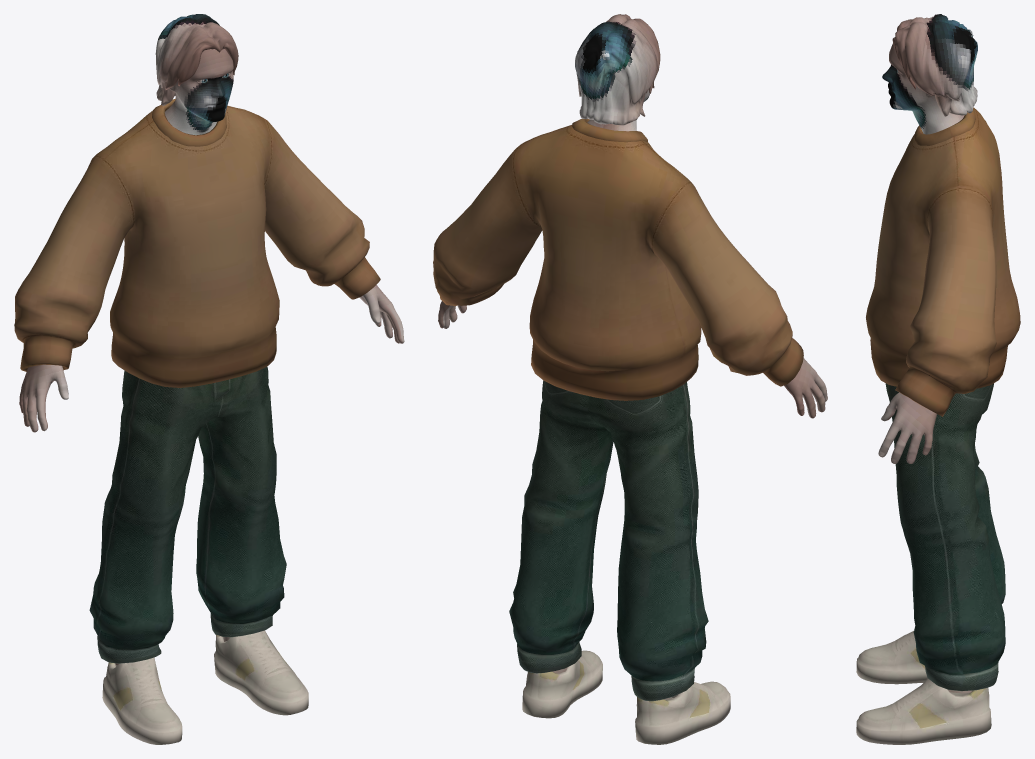
Rendered from avatar_testing2.fbx.
3 views of the same model, side by side, from view 1: azimuth 30°, elevation 25°; view 2: azimuth 150°, elevation 25°; view 3: azimuth 270°, elevation 25° (orthographic).
Visible parts, largest first — view 1: node_9146f3e6_b35e_4496_808e_1da8280aa87d_mesh0, node_9fd52ec1_0df4_432f_8ebf_860e5673bd9f_mesh0, node_6abc57bd_3641_4c2c_b95f_77e1eb2d2853_mesh0, node_86010d5c_9360_49a1_a684_228e277e4bb6_mesh0, node_e018433b_87f0_4735_8140_f171f6a36282_mesh0, node_0b58ad48_553a_4873_b4d3_bc822b55f590_mesh0; view 2: node_9146f3e6_b35e_4496_808e_1da8280aa87d_mesh0, node_9fd52ec1_0df4_432f_8ebf_860e5673bd9f_mesh0, node_6abc57bd_3641_4c2c_b95f_77e1eb2d2853_mesh0, node_86010d5c_9360_49a1_a684_228e277e4bb6_mesh0, node_0b58ad48_553a_4873_b4d3_bc822b55f590_mesh0; view 3: node_9146f3e6_b35e_4496_808e_1da8280aa87d_mesh0, node_9fd52ec1_0df4_432f_8ebf_860e5673bd9f_mesh0, node_6abc57bd_3641_4c2c_b95f_77e1eb2d2853_mesh0, node_86010d5c_9360_49a1_a684_228e277e4bb6_mesh0, node_0b58ad48_553a_4873_b4d3_bc822b55f590_mesh0, node_e018433b_87f0_4735_8140_f171f6a36282_mesh0.
Part boxes in pixels (<box>): node_9146f3e6_b35e_4496_808e_1da8280aa87d_mesh0: <box>14,98,380,387</box>; node_9fd52ec1_0df4_432f_8ebf_860e5673bd9f_mesh0: <box>89,367,286,663</box>; node_6abc57bd_3641_4c2c_b95f_77e1eb2d2853_mesh0: <box>102,630,308,744</box>; node_86010d5c_9360_49a1_a684_228e277e4bb6_mesh0: <box>155,14,238,106</box>; node_e018433b_87f0_4735_8140_f171f6a36282_mesh0: <box>164,49,233,135</box>; node_0b58ad48_553a_4873_b4d3_bc822b55f590_mesh0: <box>19,285,404,665</box>; node_9146f3e6_b35e_4496_808e_1da8280aa87d_mesh0: <box>433,119,803,400</box>; node_9fd52ec1_0df4_432f_8ebf_860e5673bd9f_mesh0: <box>509,380,708,701</box>; node_6abc57bd_3641_4c2c_b95f_77e1eb2d2853_mesh0: <box>522,650,730,744</box>; node_86010d5c_9360_49a1_a684_228e277e4bb6_mesh0: <box>575,14,660,125</box>; node_0b58ad48_553a_4873_b4d3_bc822b55f590_mesh0: <box>438,301,827,699</box>; node_9146f3e6_b35e_4496_808e_1da8280aa87d_mesh0: <box>866,107,1020,416</box>; node_9fd52ec1_0df4_432f_8ebf_860e5673bd9f_mesh0: <box>885,383,1005,691</box>; node_6abc57bd_3641_4c2c_b95f_77e1eb2d2853_mesh0: <box>856,631,991,744</box>; node_86010d5c_9360_49a1_a684_228e277e4bb6_mesh0: <box>892,14,977,116</box>; node_0b58ad48_553a_4873_b4d3_bc822b55f590_mesh0: <box>878,392,971,693</box>; node_e018433b_87f0_4735_8140_f171f6a36282_mesh0: <box>882,44,964,134</box>.
Size of the model in its own units: 106 by 186 by 40.35.
Materials: 8 (8 with a texture image).
